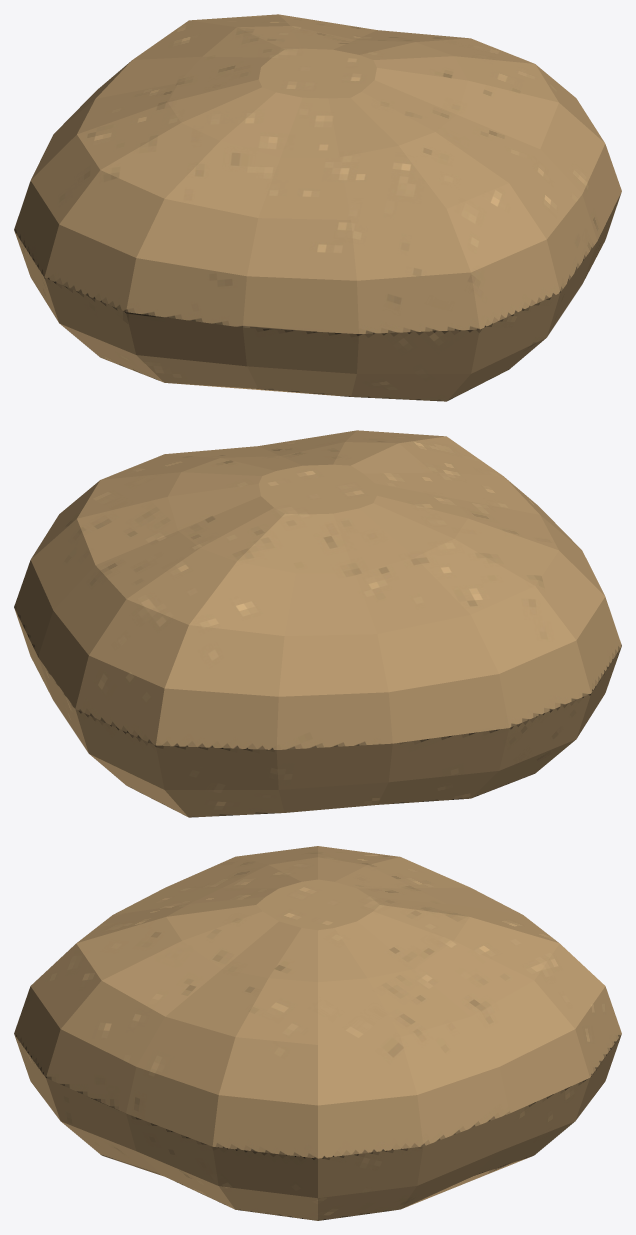
Rendered from Blob.fbx.
The picture shows the model from 3 angles, top to bottom: view 1: azimuth 30°, elevation 25°; view 2: azimuth 150°, elevation 25°; view 3: azimuth 270°, elevation 25°; orthographic projection. The views are drawn at different scales.
Parts seen in each view (by area): view 1: Blob; view 2: Blob; view 3: Blob.
Boxes of the visible parts, bbox=[...] form: Blob: bbox=[14, 14, 621, 401]; Blob: bbox=[14, 430, 621, 817]; Blob: bbox=[14, 846, 621, 1220].
Size of the model in its own units: 229 by 97.96 by 235.
Materials: 1 (1 with a texture image).
